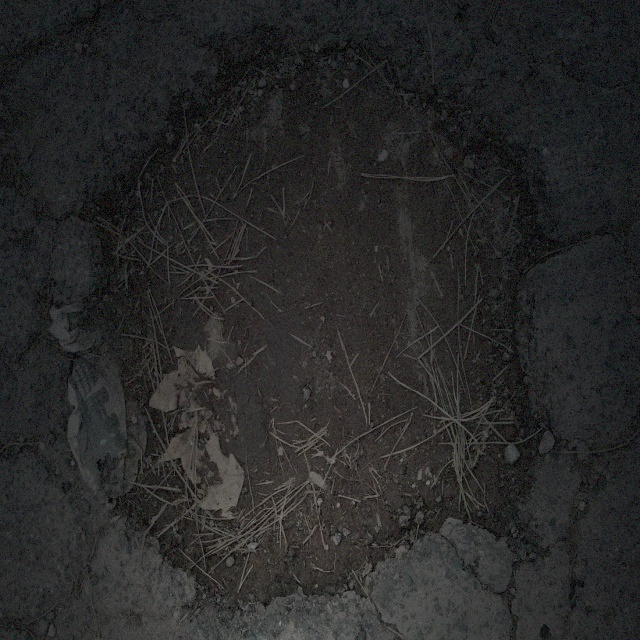pothole: (54, 31, 554, 598)
